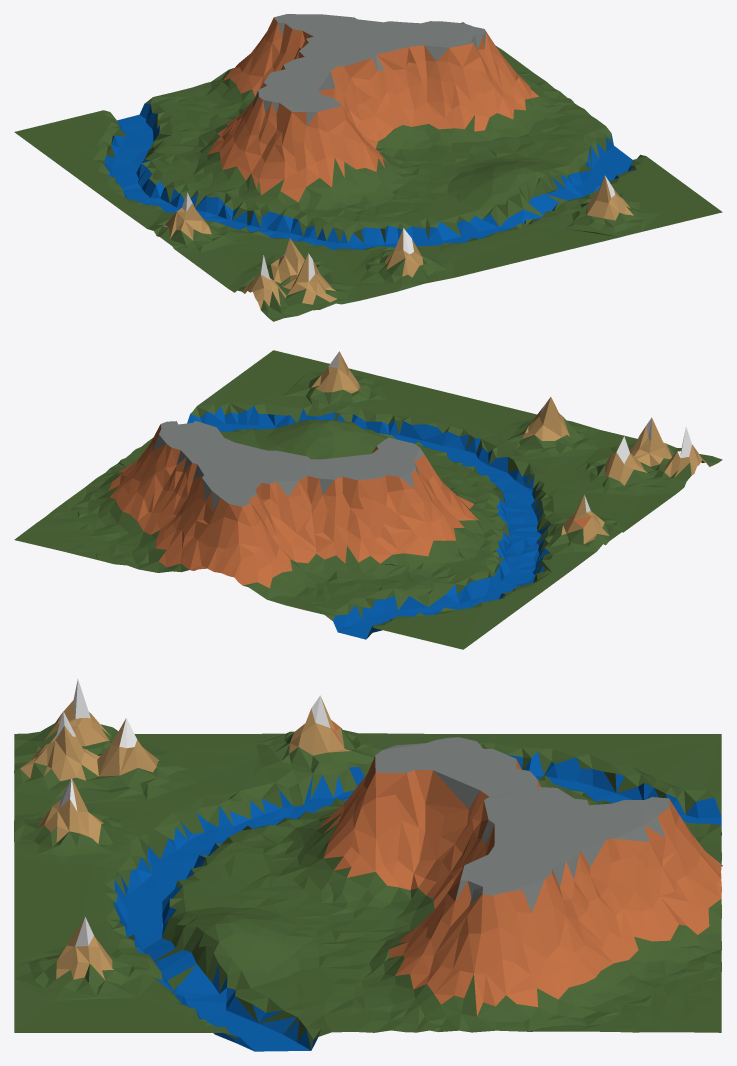
Rendered from lower poly terrain.fbx.
3 renders of one model, top to bottom at view 1: azimuth 30°, elevation 25°; view 2: azimuth 150°, elevation 25°; view 3: azimuth 270°, elevation 25°, orthographic. The views are drawn at different scales.
Visible parts, largest first — view 1: Grid; view 2: Grid; view 3: Grid.
Part boxes in pixels (left/top/right/bottom): Grid: left=14, top=14, right=722, bottom=321; Grid: left=14, top=350, right=722, bottom=649; Grid: left=14, top=679, right=722, bottom=1051.
Bounding box in the file's own units: 5005 × 892 × 5010.
1 material, 1 textured.
